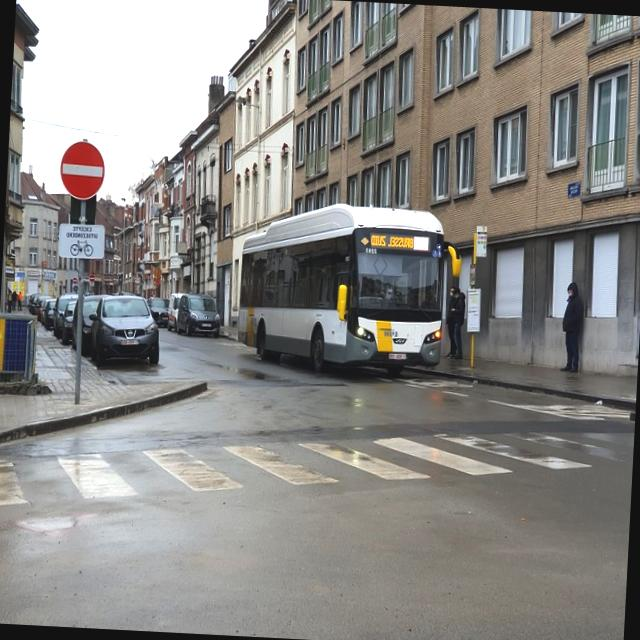bus-number: (414, 236, 428, 251)
